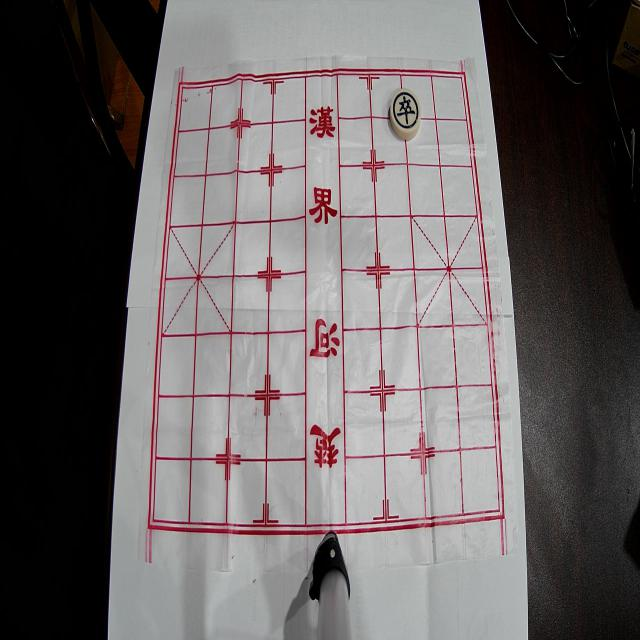black-soldier: (390, 89, 421, 140)
